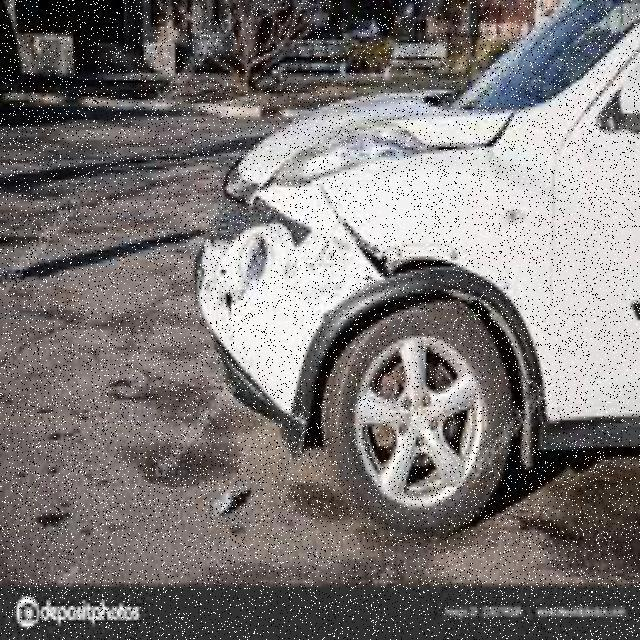fender-dent: (330, 163, 558, 367)
front-bumper-dent: (170, 170, 378, 437)
